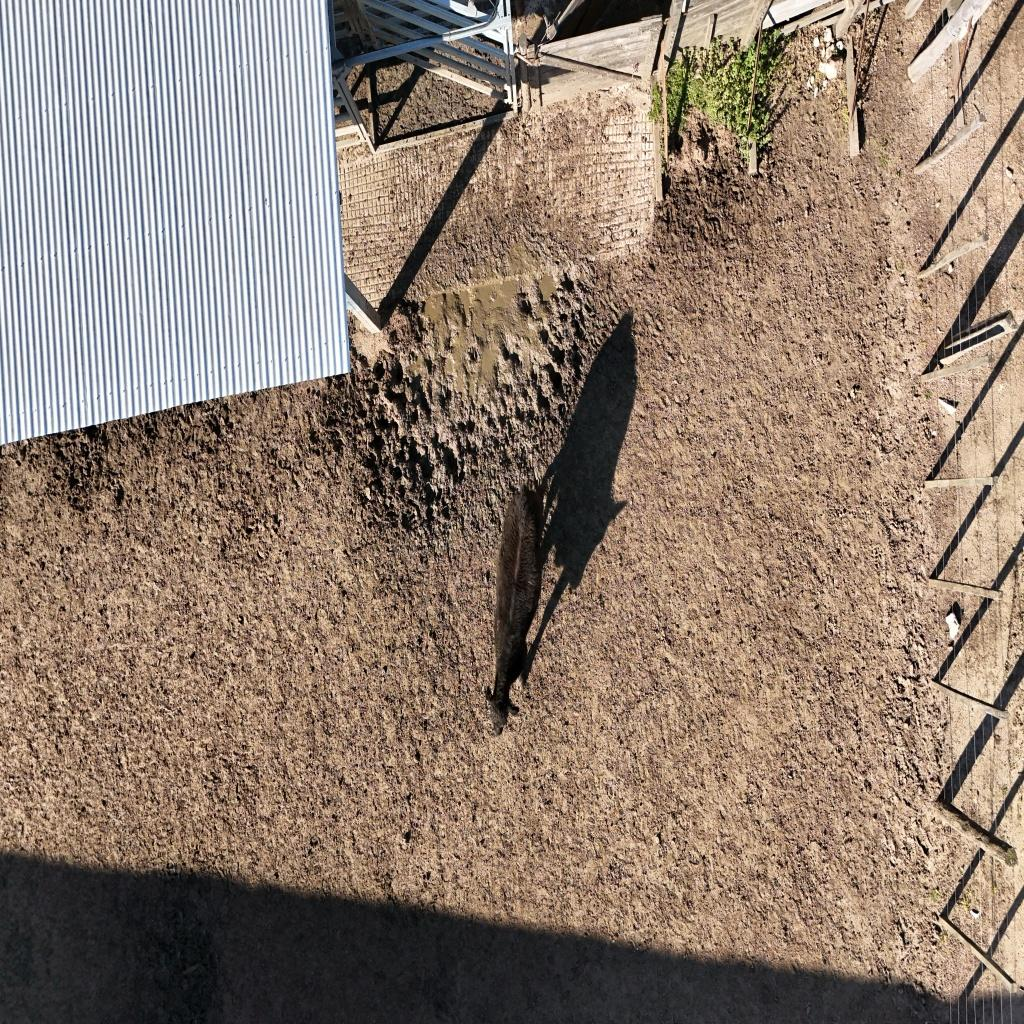cow: (466, 484, 568, 734)
